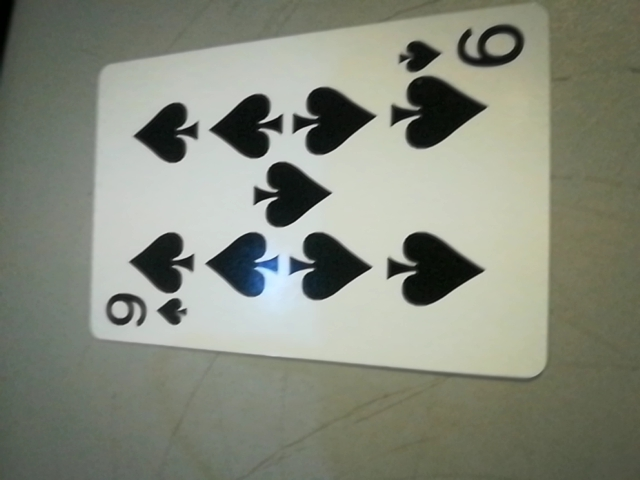ht 9: (401, 17, 537, 83)
